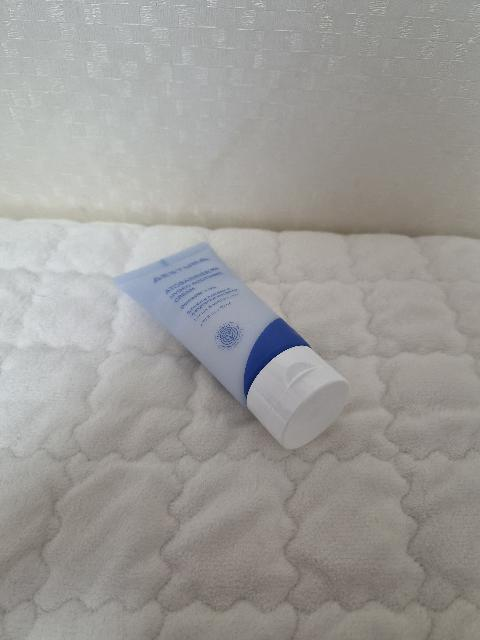handcream: (112, 241, 350, 450)
